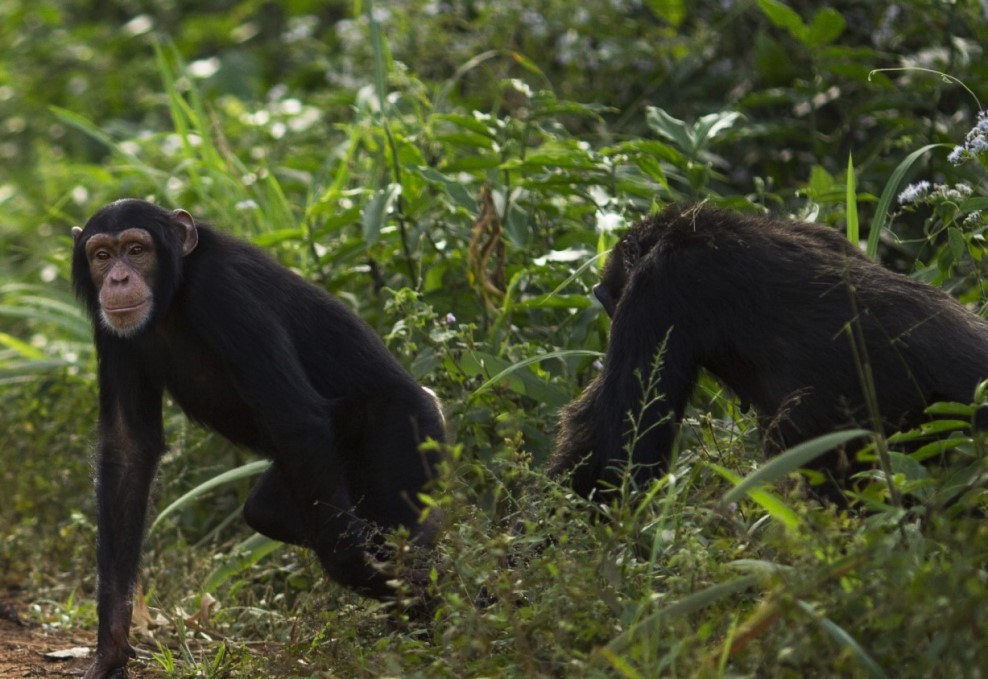Chimpanzee: (25, 186, 454, 648), (568, 187, 983, 509)
